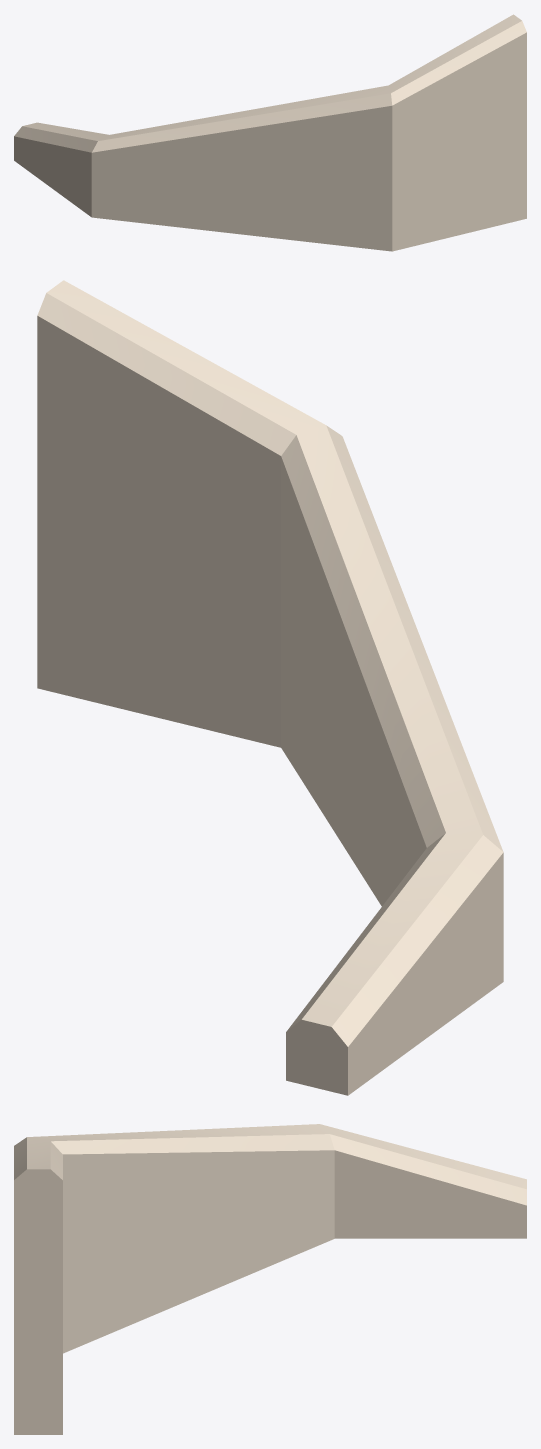
The model's file is Stairs_Coping_Ramp_Curved_Large.glb.
The picture shows the model from 3 angles, top to bottom: view 1: azimuth 30°, elevation 25°; view 2: azimuth 150°, elevation 25°; view 3: azimuth 270°, elevation 25°; orthographic projection. The views are drawn at different scales.
Visible parts, largest first — view 1: Stairs_Coping_Ramp_Curved_Large; view 2: Stairs_Coping_Ramp_Curved_Large; view 3: Stairs_Coping_Ramp_Curved_Large.
Boxes of the visible parts, <box> form: Stairs_Coping_Ramp_Curved_Large: <box>14,14,526,251</box>; Stairs_Coping_Ramp_Curved_Large: <box>37,280,503,1095</box>; Stairs_Coping_Ramp_Curved_Large: <box>14,1124,526,1434</box>.
Bounding box in the file's own units: 0.945 × 0.54 × 0.945.
